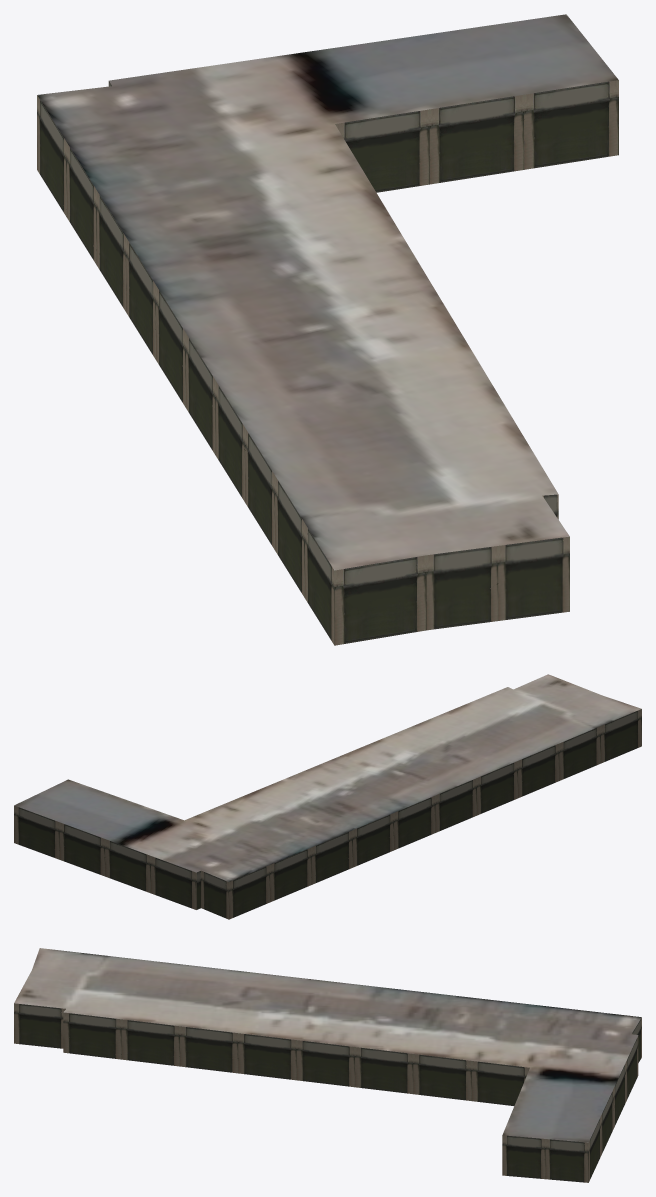
The picture shows the model from 3 angles, top to bottom: view 1: azimuth 30°, elevation 25°; view 2: azimuth 150°, elevation 25°; view 3: azimuth 270°, elevation 25°; orthographic projection. The views are drawn at different scales.
Parts seen in each view (by area): view 1: SketchUp (×5); view 2: SketchUp (×4); view 3: SketchUp (×5).
Part boxes in pixels (x1,y1,x2,y2): SketchUp (×5): [37, 14, 618, 645]; SketchUp (×4): [14, 674, 641, 919]; SketchUp (×5): [14, 948, 641, 1182].
Bounding box in the file's own units: 41.44 × 56.51 × 4.
Materials: 2 (2 with a texture image).
